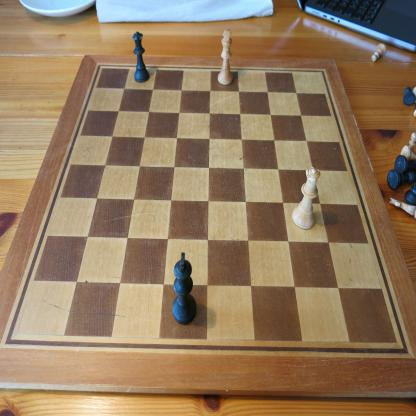black-king: (172, 251, 196, 326)
black-queen: (132, 31, 150, 83)
white-king: (217, 29, 234, 86)
white-pawn: (371, 42, 387, 62)
white-queen: (292, 166, 321, 229)
